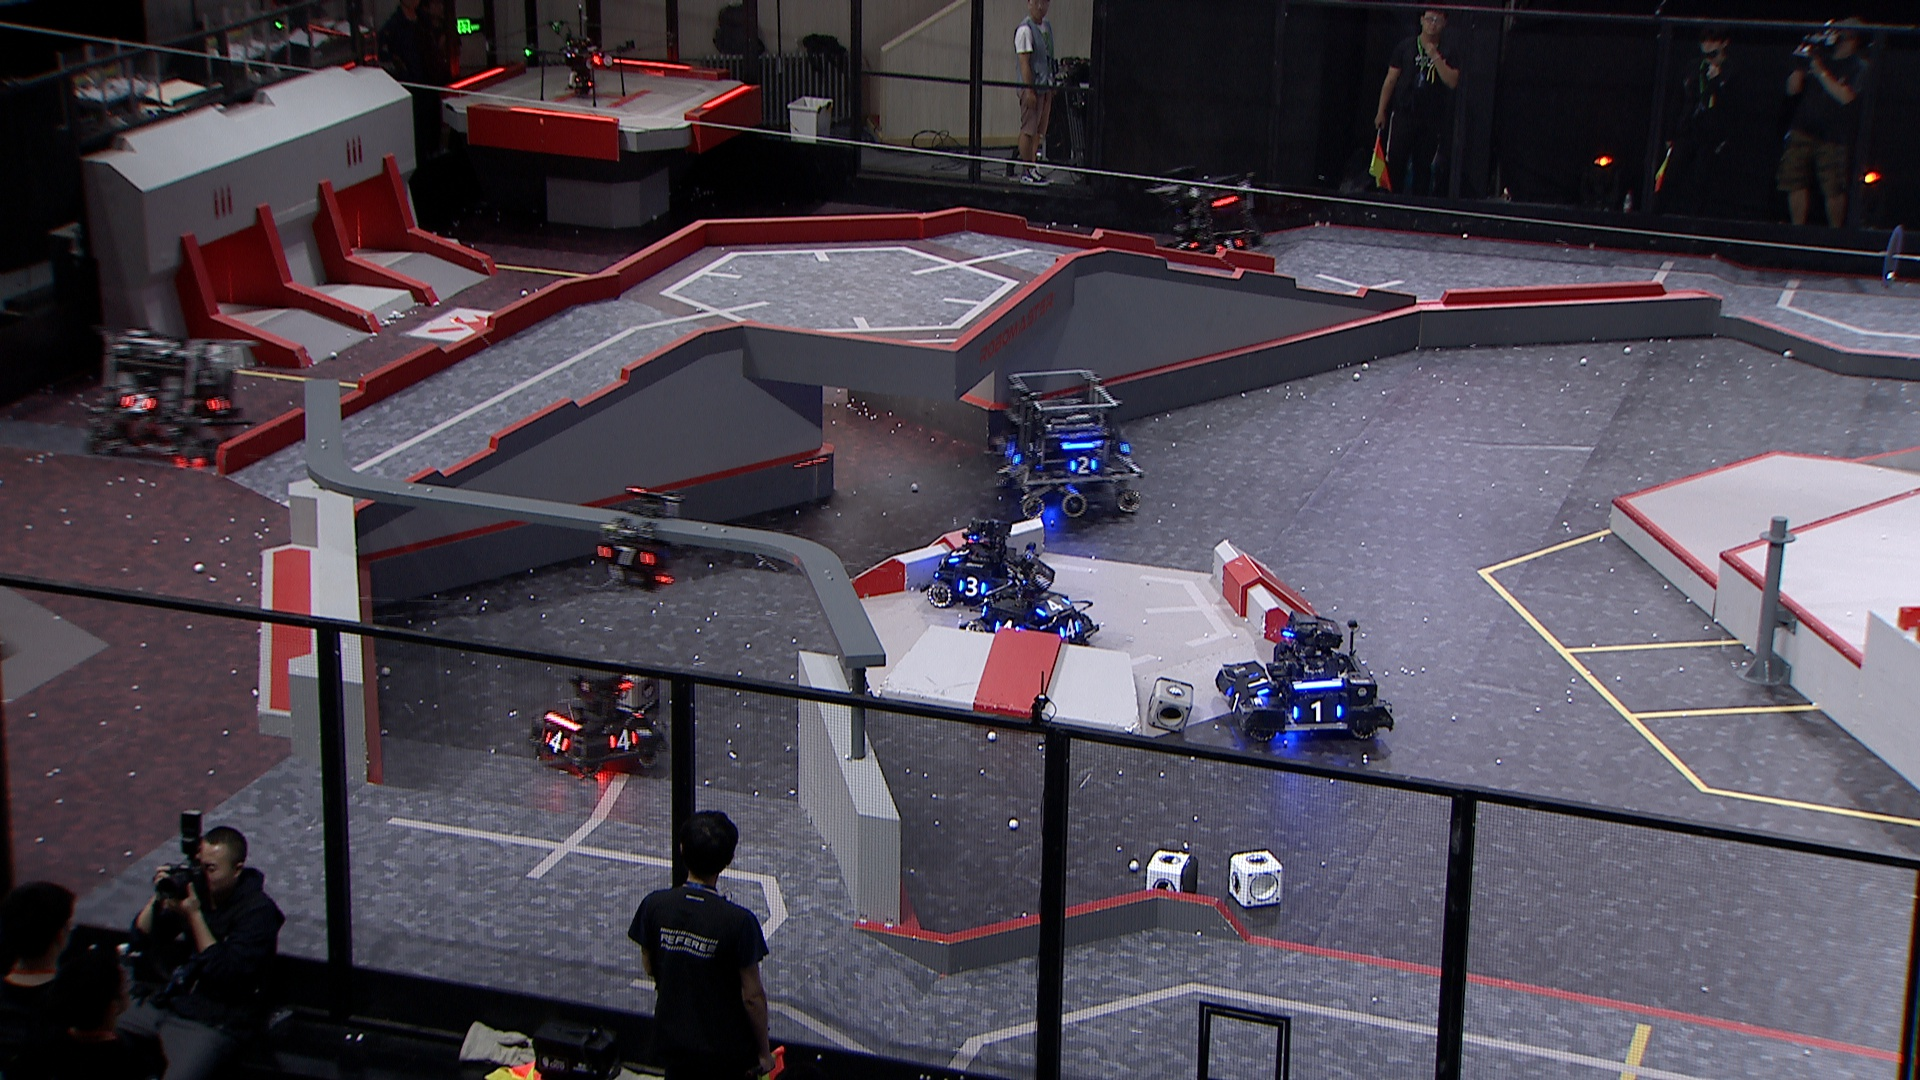armor: (1290, 695, 1346, 727), (597, 542, 657, 568), (1031, 589, 1069, 618), (1244, 669, 1275, 699), (1064, 454, 1102, 479), (200, 392, 235, 419), (541, 725, 572, 754), (604, 727, 640, 752), (117, 390, 154, 414), (1212, 233, 1245, 257), (956, 574, 989, 597), (1222, 687, 1247, 717), (993, 617, 1022, 642), (1055, 616, 1084, 640), (944, 541, 968, 567), (1171, 233, 1200, 255), (998, 443, 1025, 465)
car: (1215, 608, 1394, 745), (994, 367, 1145, 524), (87, 324, 244, 467), (527, 659, 665, 771), (953, 555, 1098, 651), (926, 517, 1058, 615), (1147, 173, 1263, 262)
watcher: (589, 483, 683, 597)
